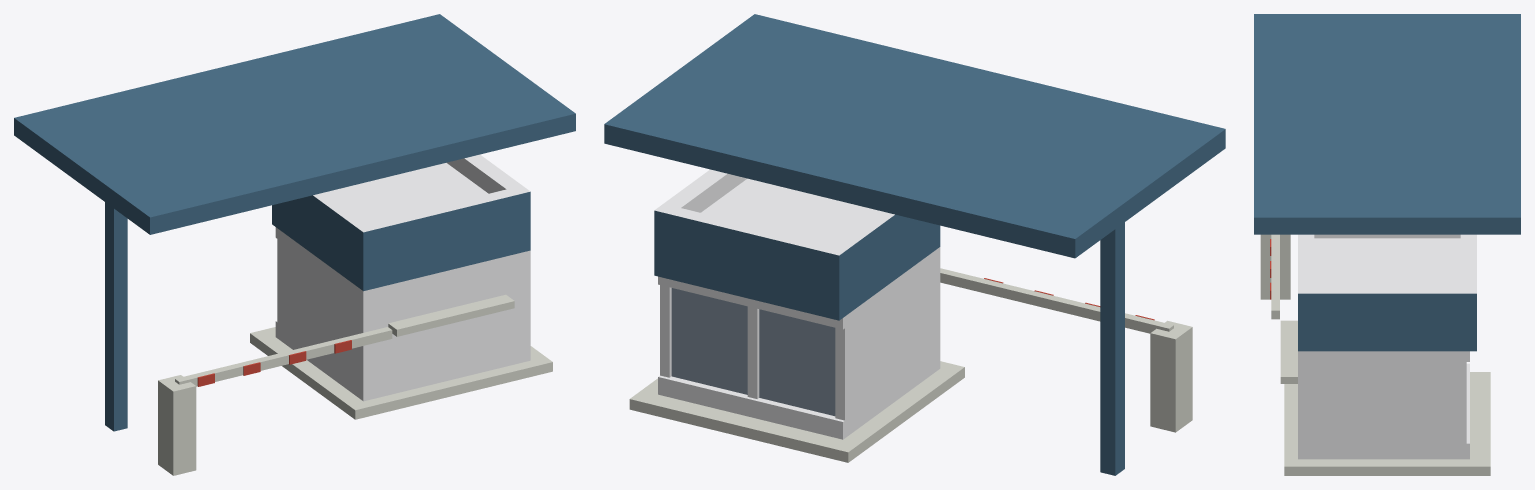
File: ap_peaje.glb
3 renders of one model, left to right at view 1: azimuth 30°, elevation 25°; view 2: azimuth 150°, elevation 25°; view 3: azimuth 270°, elevation 25°, orthographic. The views are drawn at different scales.
Visible parts, largest first — view 1: Marquesina_peaje, pitsOffice, Isleta_cabina, Columna_peaje, Pivote_barrera, Brazo_barrera, Mostrador; view 2: Marquesina_peaje, pitsOffice, Isleta_cabina, Columna_peaje, Pivote_barrera, Brazo_barrera; view 3: Marquesina_peaje, pitsOffice, Isleta_cabina, Pivote_barrera, Mostrador, Brazo_barrera.
Boxes of the visible parts, x1,y1,x2,y2 form: Marquesina_peaje: (14, 14, 575, 234); pitsOffice: (272, 154, 530, 401); Isleta_cabina: (250, 327, 552, 419); Columna_peaje: (105, 202, 127, 431); Pivote_barrera: (158, 375, 196, 475); Brazo_barrera: (175, 327, 392, 386); Mostrador: (388, 294, 514, 336); Marquesina_peaje: (604, 14, 1225, 258); pitsOffice: (654, 169, 940, 439); Isleta_cabina: (629, 361, 964, 462); Columna_peaje: (1100, 222, 1124, 475); Pivote_barrera: (1150, 320, 1192, 432); Brazo_barrera: (940, 268, 1173, 333); Marquesina_peaje: (1254, 14, 1520, 234); pitsOffice: (1298, 234, 1476, 459); Isleta_cabina: (1284, 372, 1490, 475); Pivote_barrera: (1260, 234, 1290, 299); Mostrador: (1280, 320, 1297, 383); Brazo_barrera: (1271, 234, 1279, 319).
Size of the model in its own units: 5.6 by 3.36 by 3.1.
